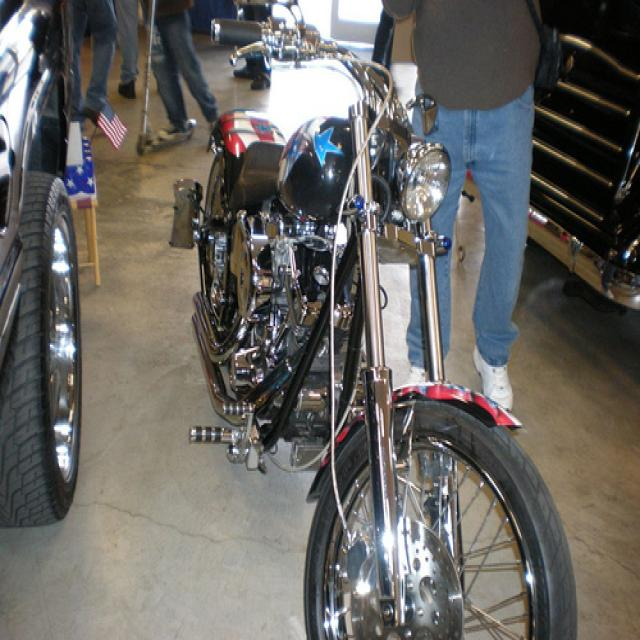motor: (170, 7, 579, 634)
